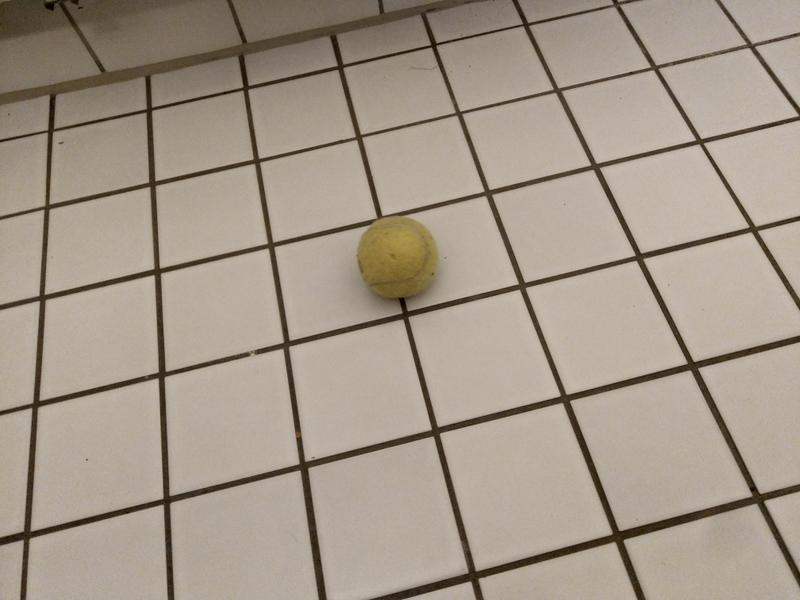Tennisball: (354, 213, 441, 301)
